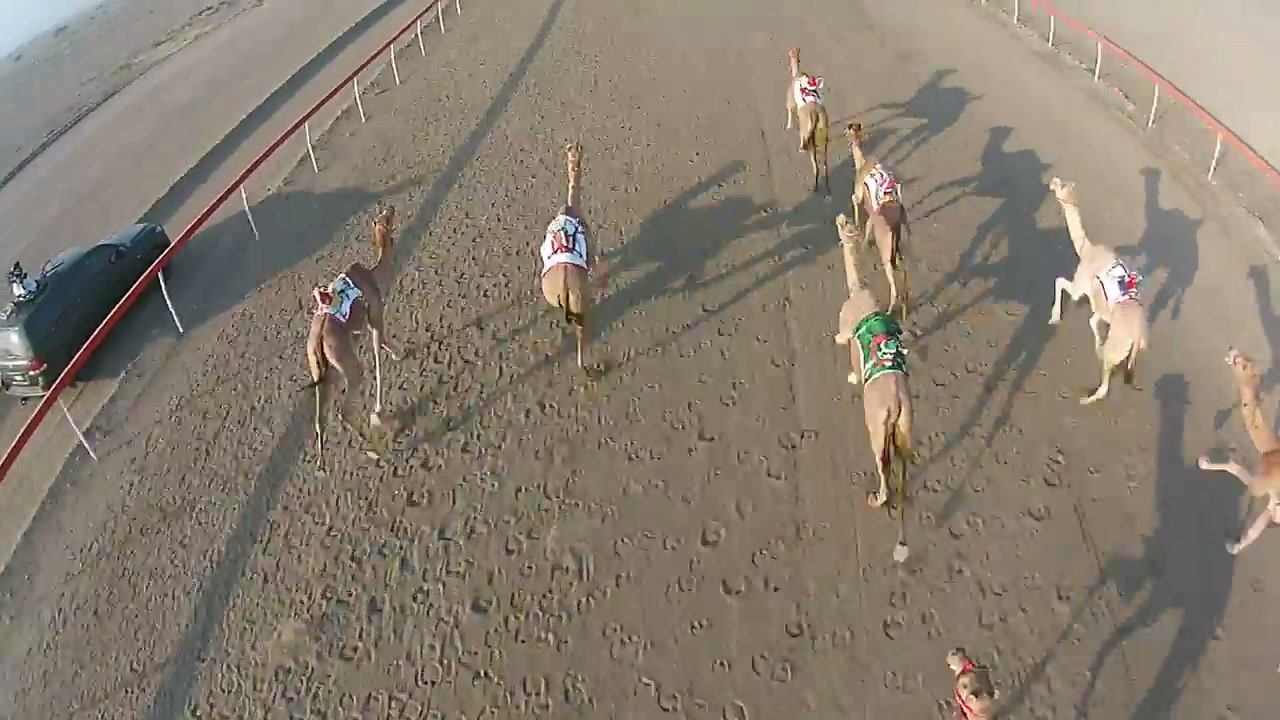animal_foot_print: (237, 244, 839, 719), (851, 326, 1095, 695)
